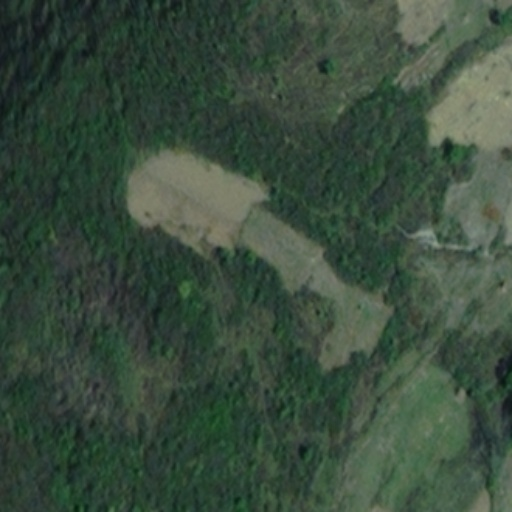landslide: (124, 149, 390, 374)
